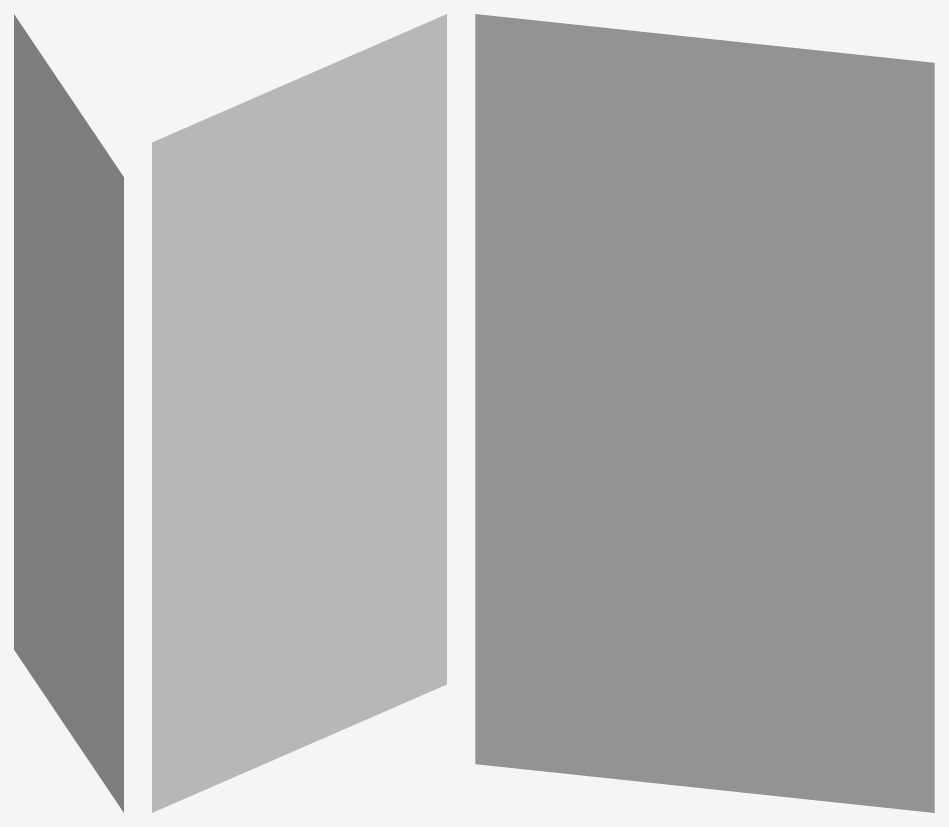
File: paneru_skurin_03.fbx
The picture shows the model from 3 angles, left to right: view 1: azimuth 30°, elevation 25°; view 2: azimuth 150°, elevation 25°; view 3: azimuth 270°, elevation 25°; orthographic projection. The views are drawn at different scales.
Visible parts, largest first — view 1: paneru_skurin_03; view 2: paneru_skurin_03; view 3: paneru_skurin_03.
Boxes of the visible parts, bbox=[...] form: paneru_skurin_03: bbox=[14, 14, 123, 812]; paneru_skurin_03: bbox=[152, 14, 446, 812]; paneru_skurin_03: bbox=[475, 14, 934, 812].
Size of the model in its own units: 18.78 by 135 by 74.67.
1 material, 1 textured.
